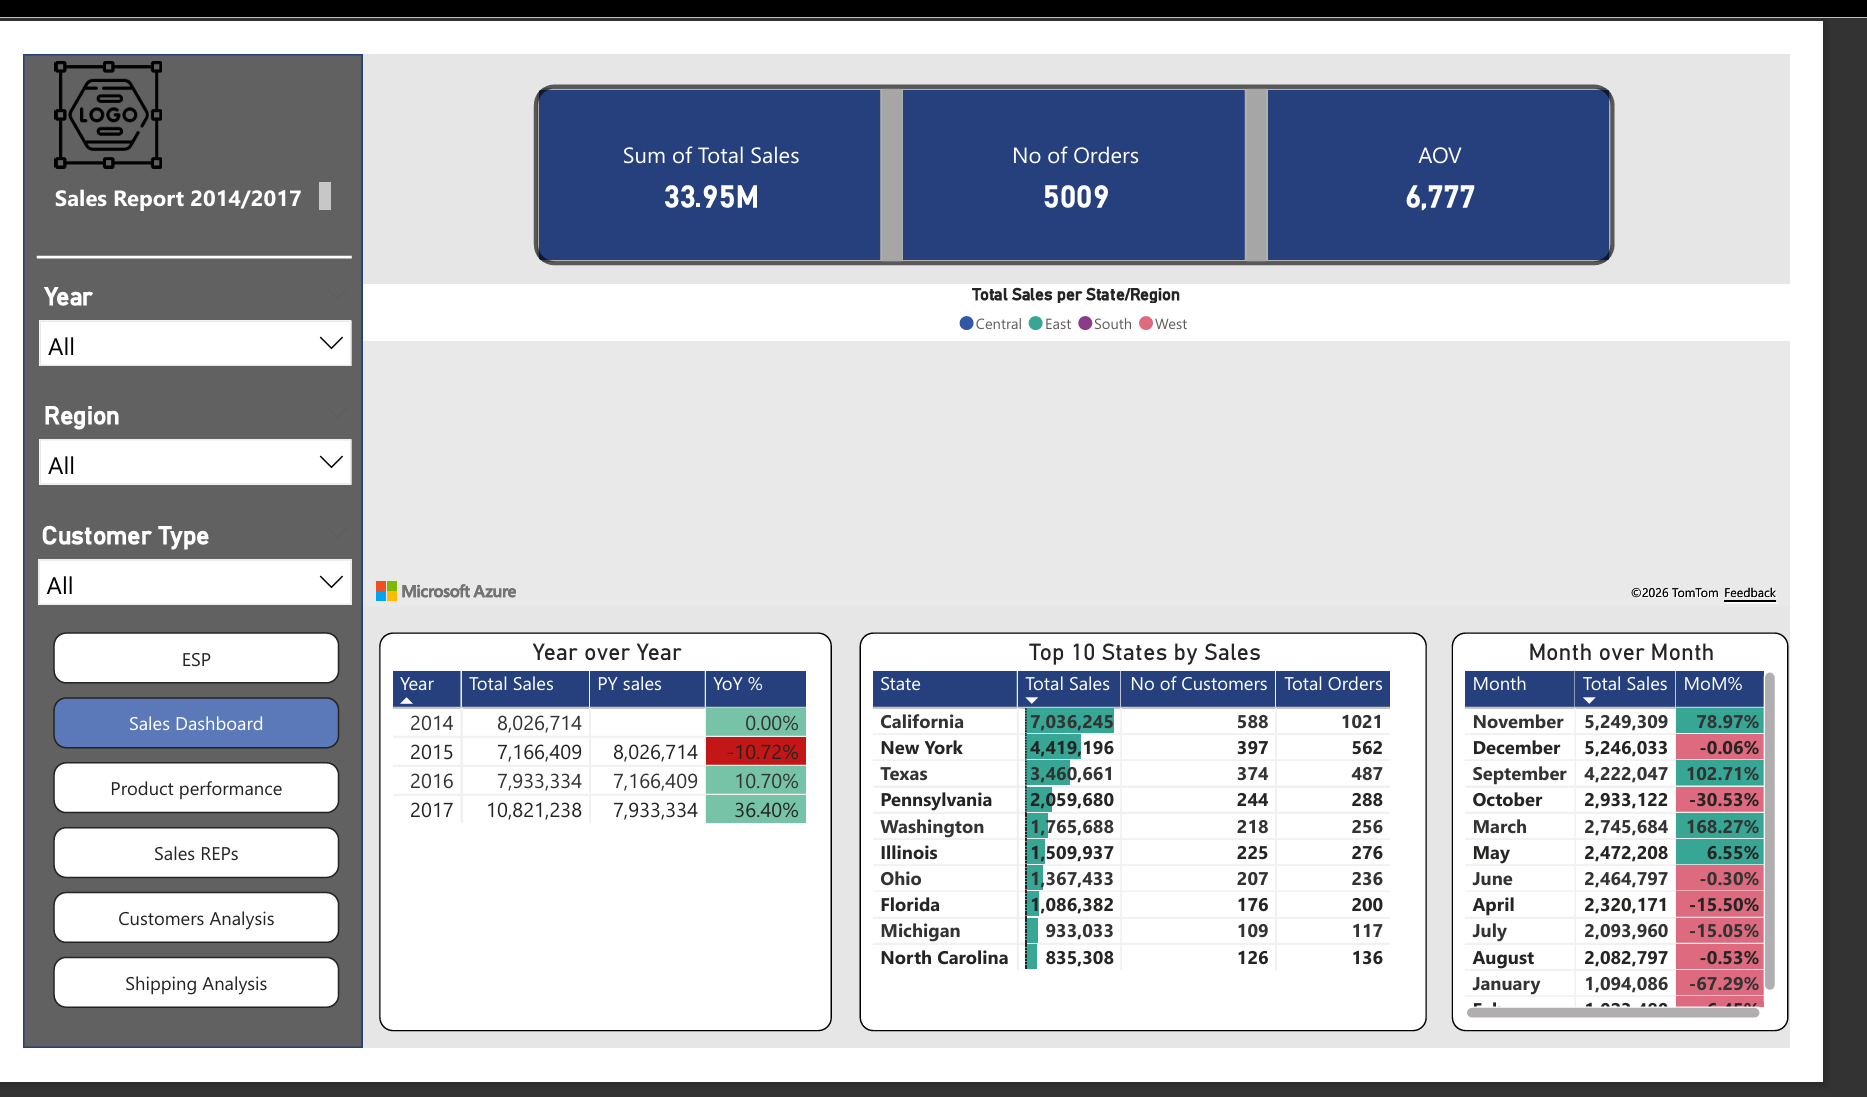

What the dashboard file says about the page in this screenshot:
{"tool":"powerbi","page":{"name":"Sales Dashboard","canvas":[1280,720],"ordinal":1},"visuals":[{"type":"cardVisual","fields":{"Data":["Sum(Orders_details.Total Sales)","Count(Orders_details.Order ID)","Orders_details.AOV"]},"box":[365,16.7,793.3,141.7],"z":0},{"type":"tableEx","title":"Year over Year","fields":{"Values":["Orders.OrderDate.Variation.Date Hierarchy.Year","Sum(Orders_details.Total Sales)","Table.previous years sales","Table.YoY growth %"]},"box":[257.8,419,328.3,289.4],"z":1000},{"type":"tableEx","title":"Month over Month","fields":{"Values":["Orders.OrderDate.Variation.Date Hierarchy.Month","Sum(Orders_details.Total Sales)","Customers.sum sales MoM%"]},"box":[1035.4,419,243.4,289.4],"z":2000},{"type":"azureMap","title":"Total Sales per State/Region","fields":{"Category":["Shipping.State"],"Size":["Table.sum sales"],"Series":["Shipping.Region"]},"box":[246.2,167,1033.9,233.3],"z":3000},{"type":"pageNavigator","box":[21.6,419,207.4,275],"z":3000,"group":"g2"},{"type":"image","box":[0,0,124,88],"z":4000,"group":"g1"},{"type":"tableEx","title":"Top 10 States by Sales","fields":{"Values":["Shipping.State","Table.sum sales","Customers.Customer ID","Orders.Order ID"]},"box":[606.2,419,410.4,289.4],"z":4000},{"type":"shape","box":[0,0,246.2,720],"z":5000},{"type":"textbox","box":[18,88,210,30],"z":5000,"group":"g1"},{"type":"group","id":"g1","title":"Group 1","box":[0,0,248,322],"z":5001,"group":"g2"},{"type":"group","id":"g2","title":"Group 2","box":[0,0,248,694.1],"z":6000},{"type":"shape","box":[10,134,228,26],"z":6000,"group":"g1"},{"type":"slicer","fields":{"Values":["Orders.OrderDate.Variation.Date Hierarchy.Year"]},"box":[2,160,246,76],"z":7000,"group":"g1"},{"type":"slicer","fields":{"Values":["Shipping.Region"]},"box":[2,246,246,76],"z":8000,"group":"g1"},{"type":"slicer","fields":{"Values":["Customers.Customer Type"]},"box":[1.4,332.6,246.2,76.3],"z":8000}]}

Visuals, with their boxes on the page's 1280x720 design canvas (x1, y1, x2, y2). These are canvas units, not pixel positions in the 1867x1097 screenshot, which may show the page scaled, cropped or inside an application window:
cardVisual - Sum(Orders_details.Total Sales) x Count(Orders_details.Order ID): 365,17,1158,158
"Year over Year" tableEx: 258,419,586,708
"Month over Month" tableEx: 1035,419,1279,708
"Total Sales per State/Region" azureMap: 246,167,1280,400
pageNavigator: 22,419,229,694
image: 0,0,124,88
"Top 10 States by Sales" tableEx: 606,419,1017,708
shape: 0,0,246,720
textbox: 18,88,228,118
"Group 1" group: 0,0,248,322
"Group 2" group: 0,0,248,694
shape: 10,134,238,160
slicer - Orders.OrderDate.Variation.Date Hierarchy.Year: 2,160,248,236
slicer - Shipping.Region: 2,246,248,322
slicer - Customers.Customer Type: 1,333,248,409
